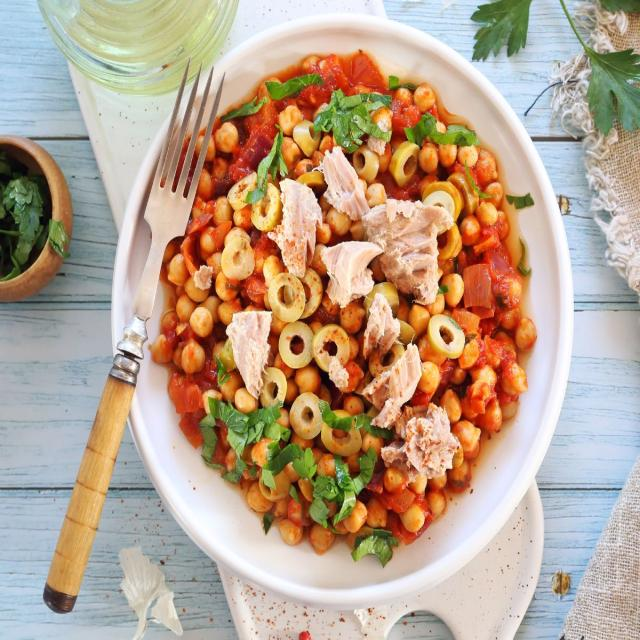garbanzos: (158, 86, 527, 542)
